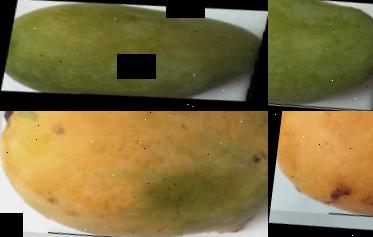PartiallyRipe: (0, 111, 268, 237)
Ripe: (269, 111, 373, 237)
Unripe: (0, 0, 268, 111), (268, 0, 373, 111)
